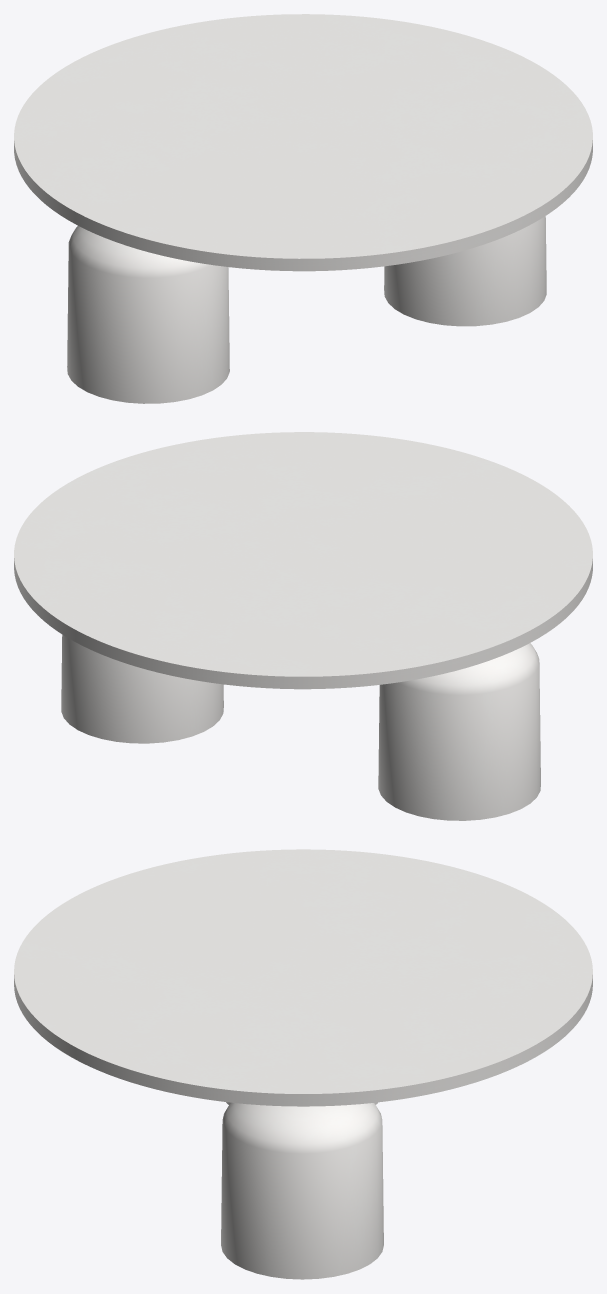
The model's file is purewhite_round_standard_tornado.glb.
3 views of the same model, one above another, from view 1: azimuth 30°, elevation 25°; view 2: azimuth 150°, elevation 25°; view 3: azimuth 270°, elevation 25° (orthographic).
Visible parts, largest first — view 1: standard_round, tornado; view 2: standard_round, tornado; view 3: standard_round, tornado.
Part boxes in pixels (box(x1,y1,x2,y2)): standard_round: box(14, 14, 592, 271); tornado: box(67, 216, 546, 403); standard_round: box(14, 432, 592, 689); tornado: box(61, 635, 540, 820); standard_round: box(14, 849, 592, 1106); tornado: box(221, 1102, 383, 1279).
Size of the model in its own units: 6.75 by 2.5 by 6.75.
1 material, 1 textured.
